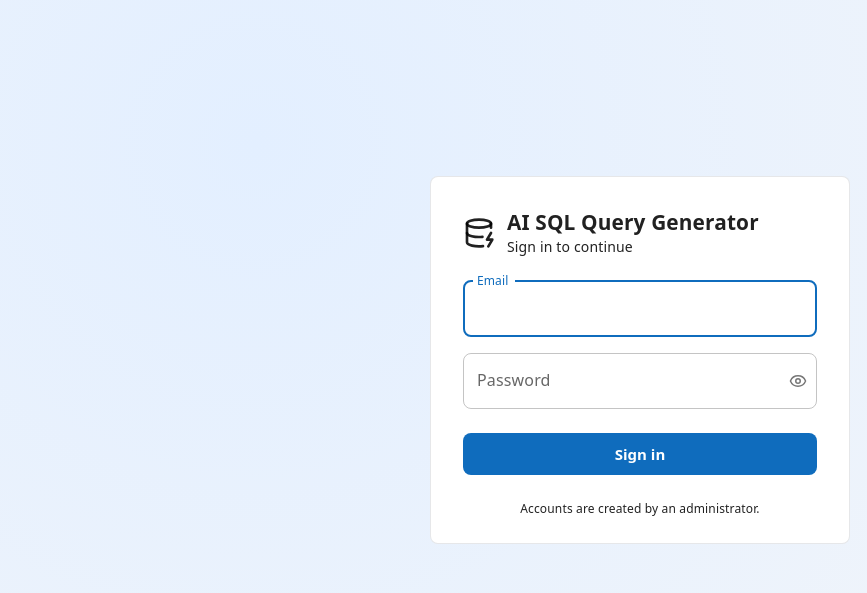
LoginPage › shows the server message on failure
Type "dev@test.local" into the field labelled "Email" at {"x": 640, "y": 309}, box [463, 281, 817, 337]
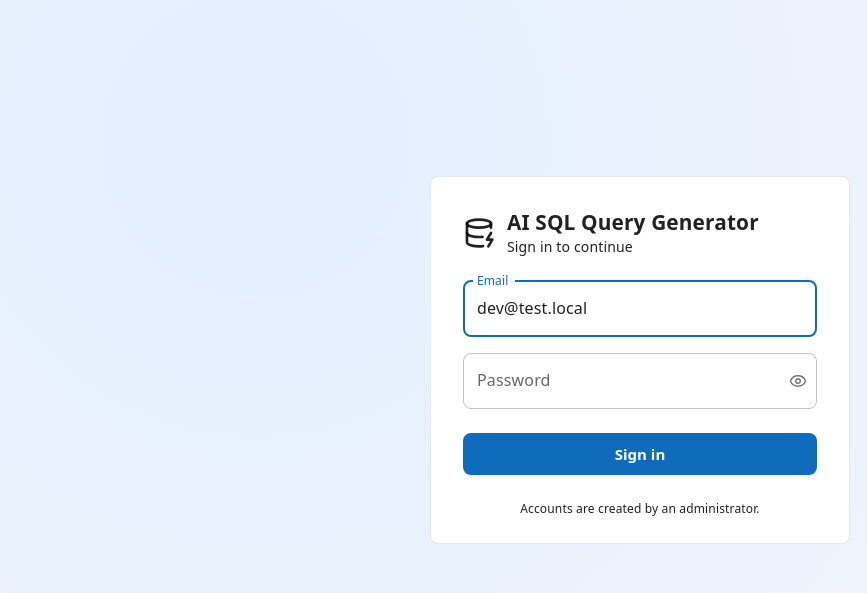
Type "wrong" into the password field labelled "Password" at {"x": 618, "y": 381}, box [463, 353, 773, 409]
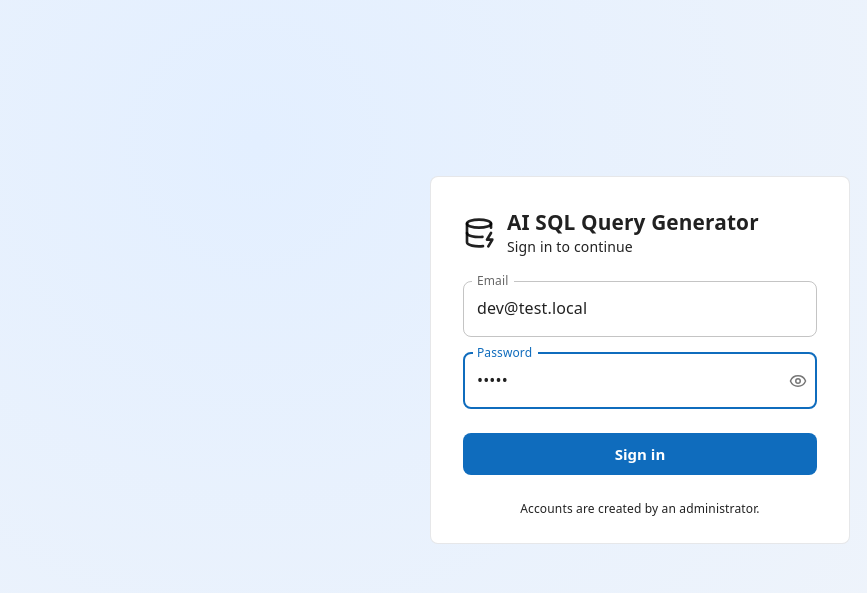
Click the button "Sign in" at {"x": 640, "y": 454}, box [463, 433, 817, 475]
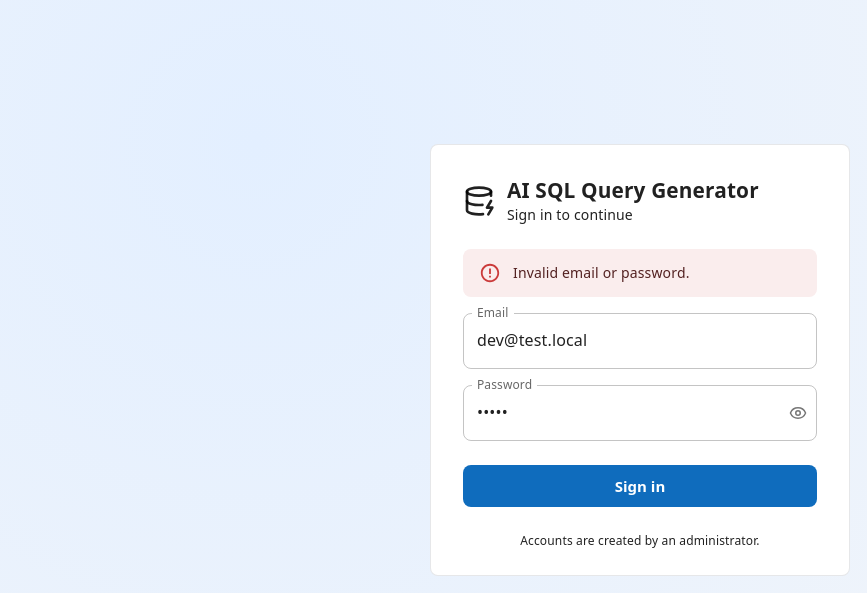
Expected: the message reads "Invalid email or password.", [513, 263, 690, 282]
